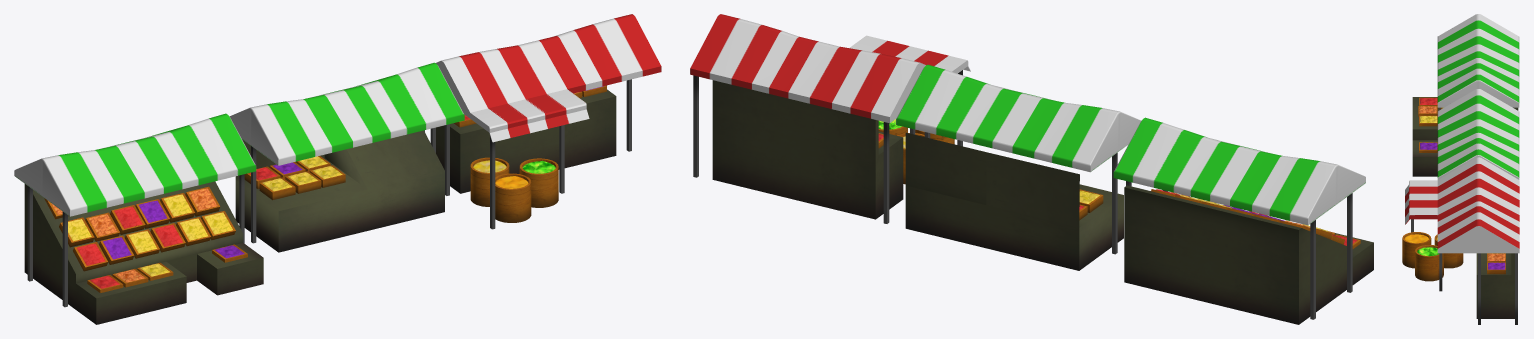
The model's file is french_fruitstand.fbx.
3 renders of one model, left to right at view 1: azimuth 30°, elevation 25°; view 2: azimuth 150°, elevation 25°; view 3: azimuth 270°, elevation 25°, orthographic. The views are drawn at different scales.
Parts seen in each view (by area): view 1: fruitstand; view 2: fruitstand; view 3: fruitstand.
Part boxes in pixels (x1,y1,x2,y2): fruitstand: (14,14,661,324); fruitstand: (690,14,1373,324); fruitstand: (1402,14,1519,324).
Size of the model in its own units: 18.92 by 4.13 by 4.41.
